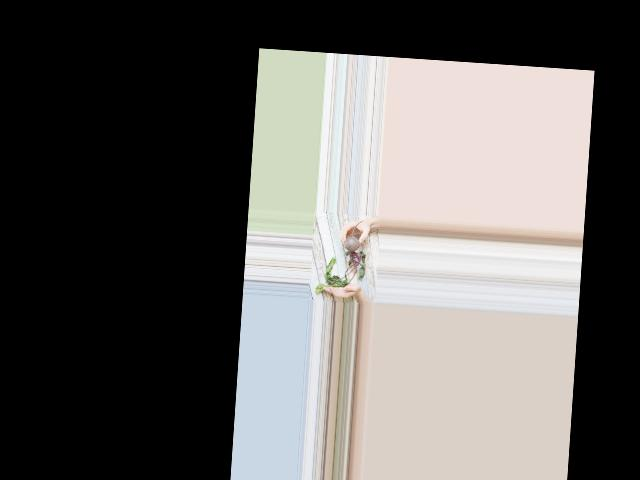beet: (314, 217, 367, 297)
